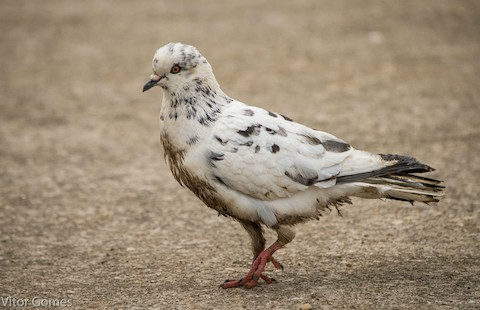pigeon: (139, 38, 449, 293)
